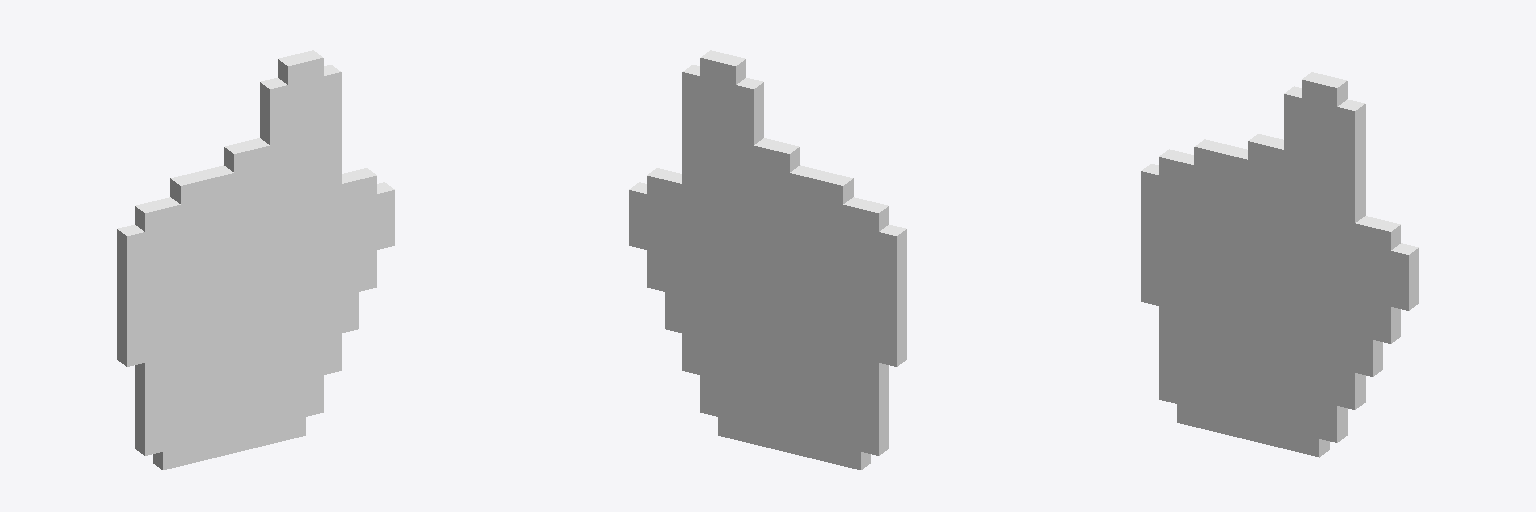
The model's file is pointer.obj.
3 renders of one model, left to right at view 1: azimuth 30°, elevation 25°; view 2: azimuth 150°, elevation 25°; view 3: azimuth 330°, elevation 25°, orthographic.
Parts seen in each view (by area): view 1: pointer; view 2: pointer; view 3: pointer.
Part boxes in pixels (bbox=[...]): pointer: bbox=[117, 50, 394, 469]; pointer: bbox=[629, 50, 906, 469]; pointer: bbox=[1141, 72, 1418, 457].
Bounding box in the file's own units: 15 × 20 × 1.